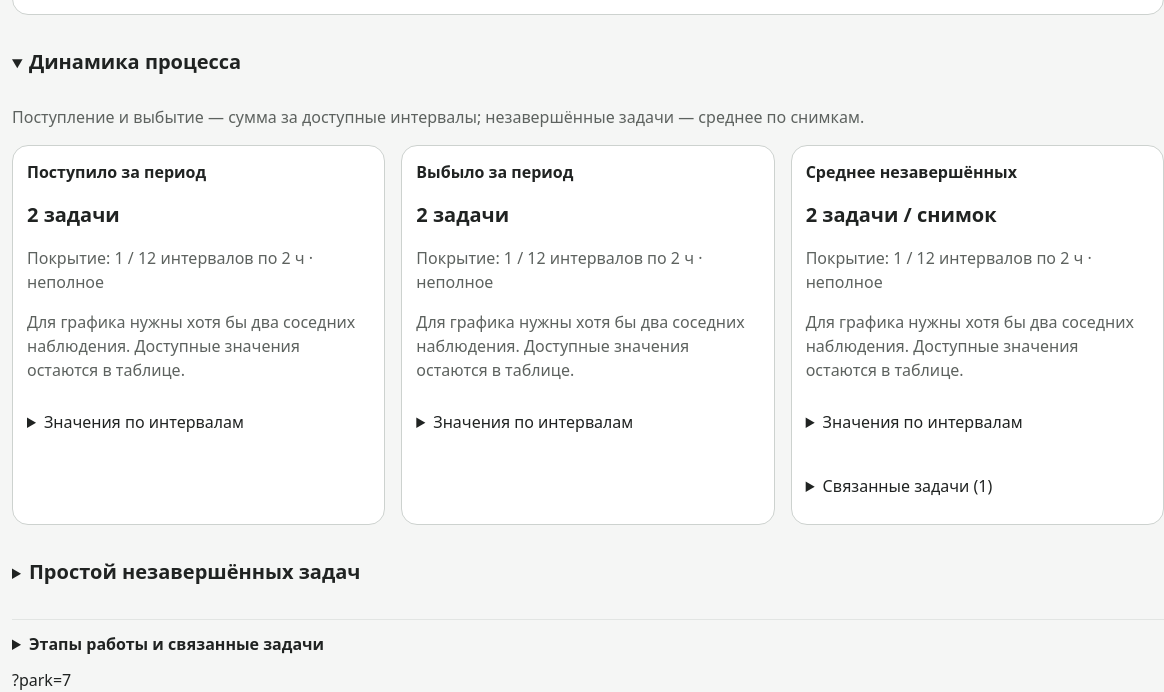
it: loads the next drilldown page only when requested
The image size is (1164, 692).
(page scrolled)
Click the heading "Этапы работы и связанные задачи": (176, 644) [29,632,324,654]
(page scrolled)
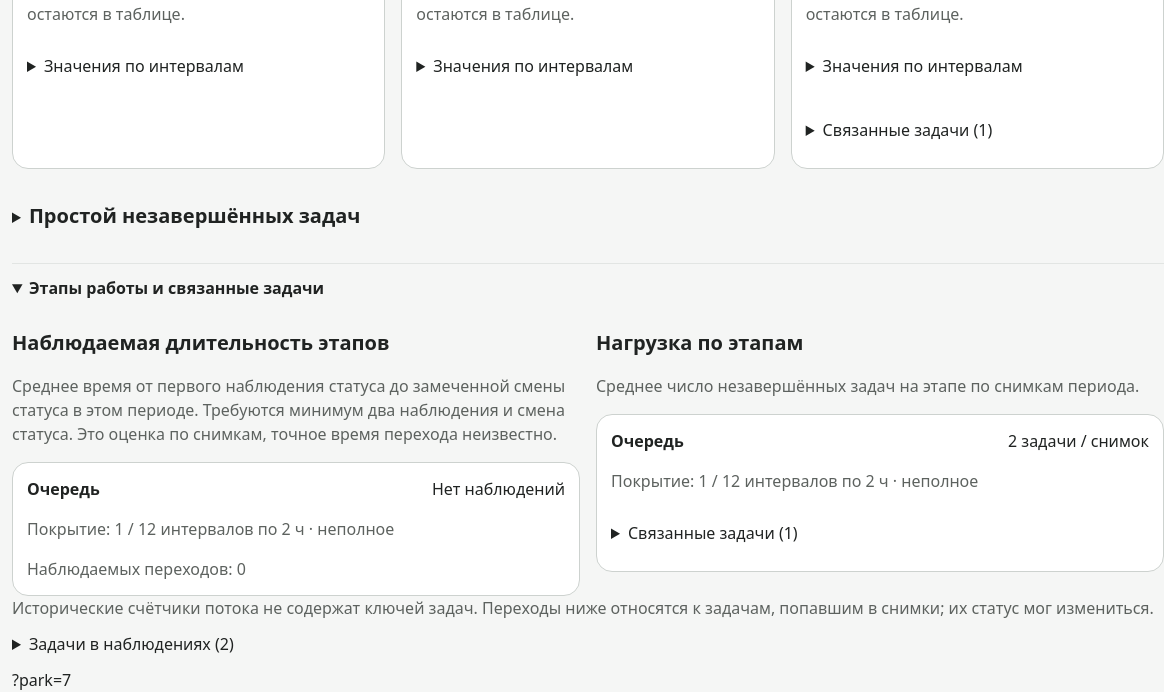
Click the heading "Задачи в наблюдениях (2)": (131, 644) [29,632,234,654]
(page scrolled)
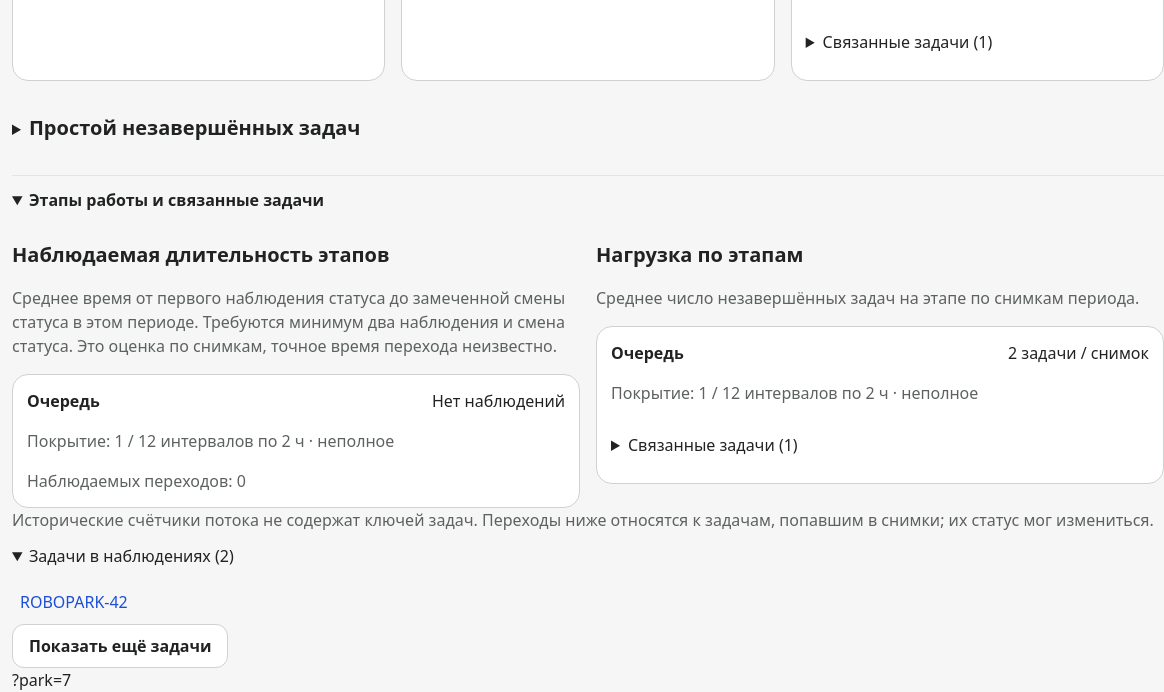
Click the button "Показать ещё задачи": (120, 646) [12,624,228,668]
(page scrolled)
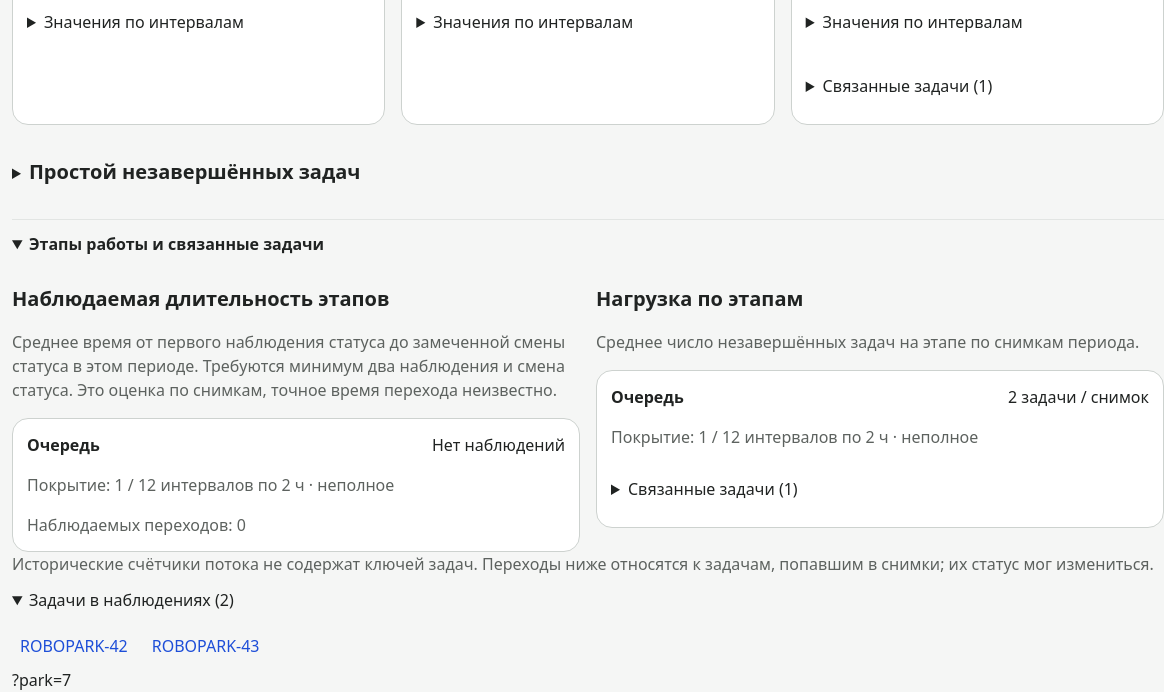
Result: the link with aria-label "Открыть задачу ROBOPARK-43" is shown at [152,634,260,656]
